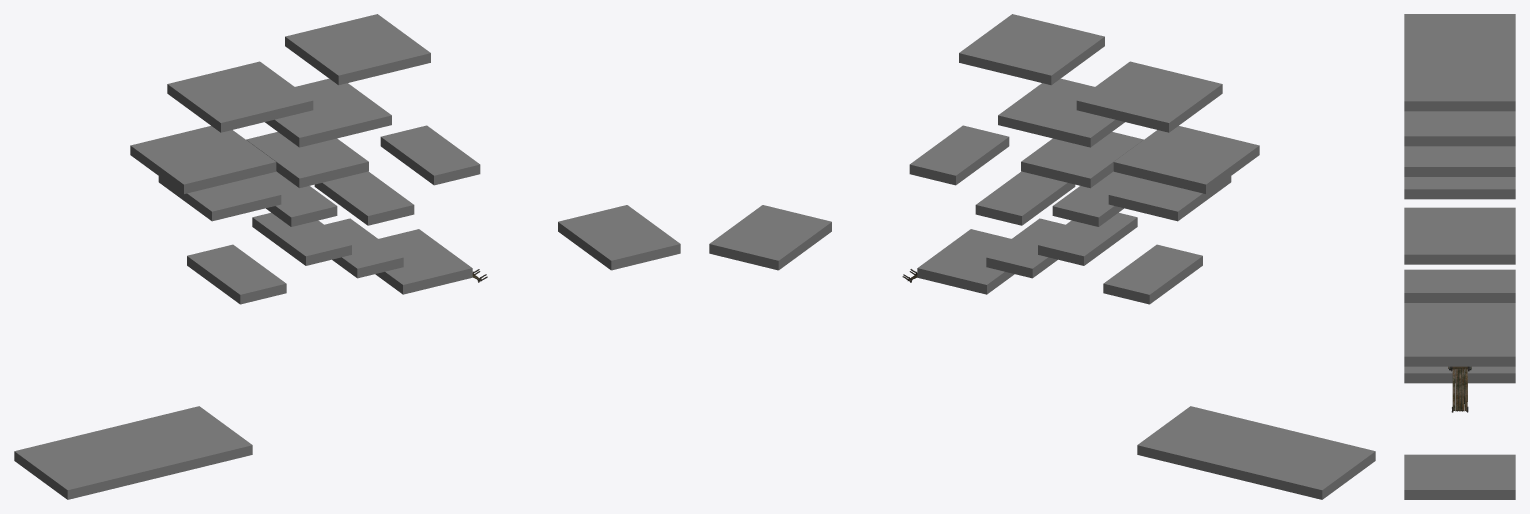
Rendered from PlaceHolder Level 2 Tree Variant.fbx.
The picture shows the model from 3 angles, left to right: view 1: azimuth 30°, elevation 25°; view 2: azimuth 150°, elevation 25°; view 3: azimuth 270°, elevation 25°; orthographic projection. The views are drawn at different scales.
Visible parts, largest first — view 1: Cube__42_, Cube__51_, Cube__53_, Cube__49_, Cube__38_, Cube__50_, Cube__54_, Cube__35_, Cube__55_, Cube__44_, Cube__46_, Cube__52_ (+3 smaller); view 2: Cube__42_, Cube__51_, Cube__53_, Cube__49_, Cube__38_, Cube__50_, Cube__54_, Cube__35_, Cube__55_, Cube__44_, Cube__46_, Cube__52_ (+3 smaller); view 3: Cube__53_, Cube__38_, Cube__35_, Cube__51_, Cube__50_, Cube__42_, Cube__42__1, Cube__55_, Cube__54_, Cube__47_, Cube__44_, Cube__46_ (+2 smaller).
Part boxes in pixels (x1,y1,x2,y2): Cube__42_: [14, 406, 252, 499]; Cube__51_: [167, 61, 313, 132]; Cube__53_: [285, 14, 430, 85]; Cube__49_: [130, 126, 276, 193]; Cube__38_: [558, 205, 680, 270]; Cube__50_: [265, 78, 391, 147]; Cube__54_: [246, 132, 368, 188]; Cube__35_: [375, 229, 472, 294]; Cube__55_: [380, 125, 480, 185]; Cube__44_: [187, 244, 286, 304]; Cube__46_: [314, 171, 414, 225]; Cube__52_: [252, 212, 351, 265]; Cube__42_: [1137, 406, 1375, 499]; Cube__51_: [1076, 61, 1222, 132]; Cube__53_: [959, 14, 1104, 85]; Cube__49_: [1113, 126, 1259, 193]; Cube__38_: [709, 205, 831, 270]; Cube__50_: [998, 78, 1124, 147]; Cube__54_: [1021, 132, 1143, 188]; Cube__35_: [917, 229, 1014, 294]; Cube__55_: [909, 125, 1009, 185]; Cube__44_: [1103, 244, 1202, 304]; Cube__46_: [975, 171, 1075, 225]; Cube__52_: [1038, 212, 1137, 265]; Cube__53_: [1404, 54, 1515, 111]; Cube__38_: [1404, 454, 1515, 499]; Cube__35_: [1404, 321, 1515, 366]; Cube__51_: [1404, 14, 1515, 54]; Cube__50_: [1404, 111, 1515, 146]; Cube__42_: [1404, 303, 1515, 383]; Cube__42__1: [1404, 269, 1515, 302]; Cube__55_: [1404, 231, 1515, 264]; Cube__54_: [1404, 146, 1515, 176]; Cube__47_: [1404, 177, 1515, 199]; Cube__44_: [1404, 207, 1515, 217]; Cube__46_: [1404, 223, 1515, 231].
Size of the model in its own units: 13250 by 7400 by 2000.
Materials: 2 (1 with a texture image).
